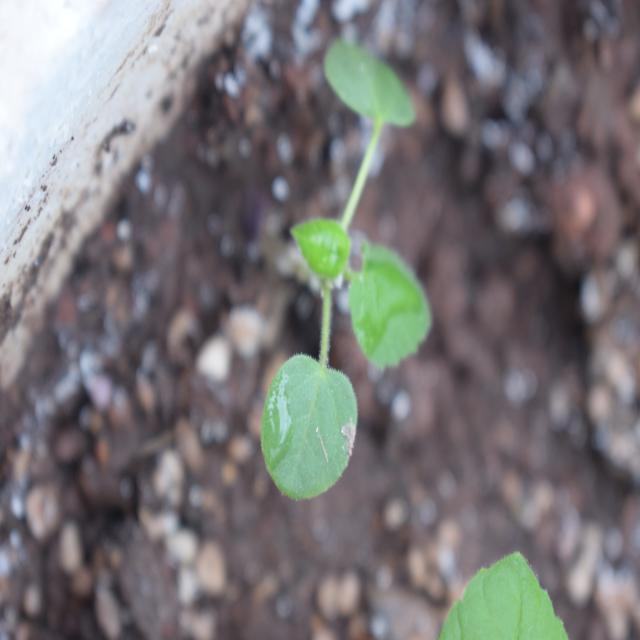abutilon theophrasti: (207, 44, 442, 525)
